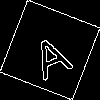A: (25, 25, 75, 81)
